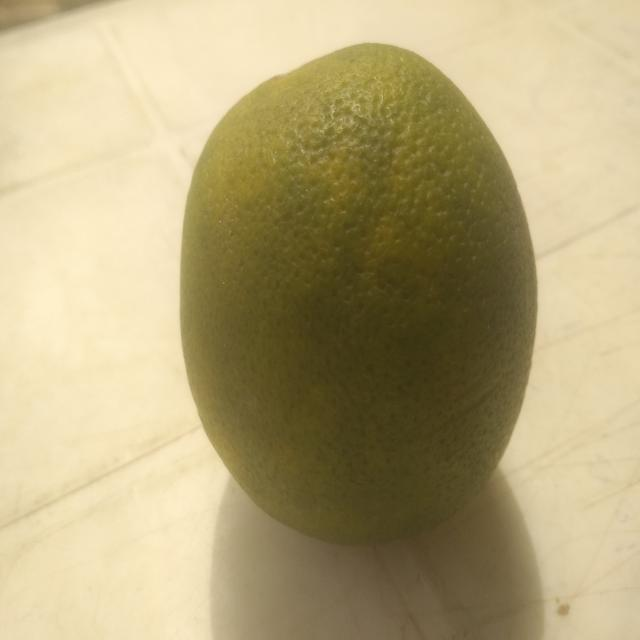Unripe: (177, 40, 540, 553)
